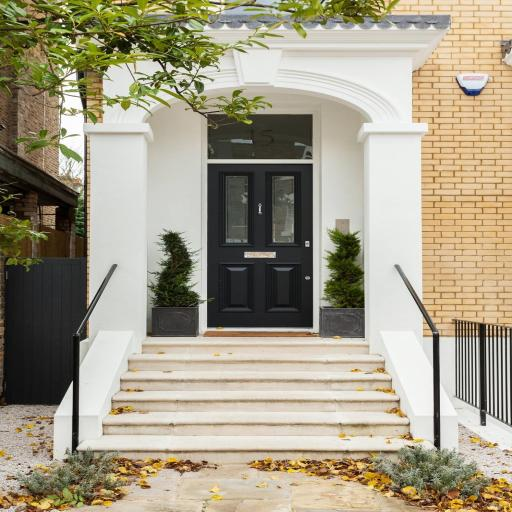door: (207, 116, 322, 394)
